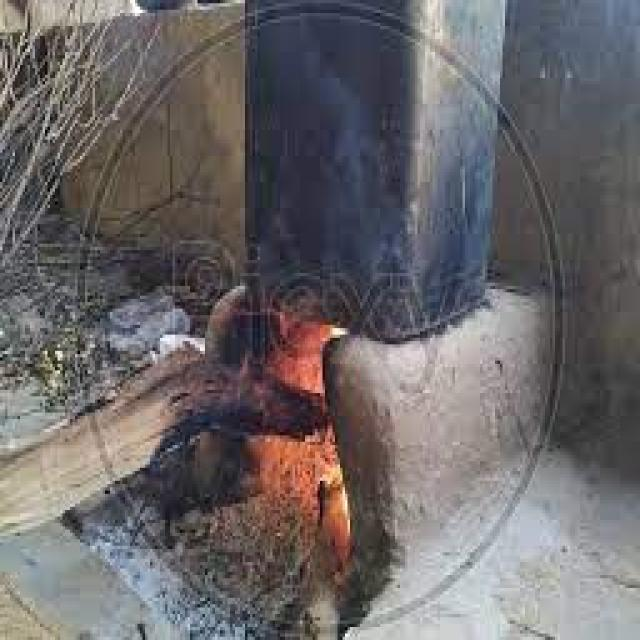fire: (336, 464, 351, 552)
